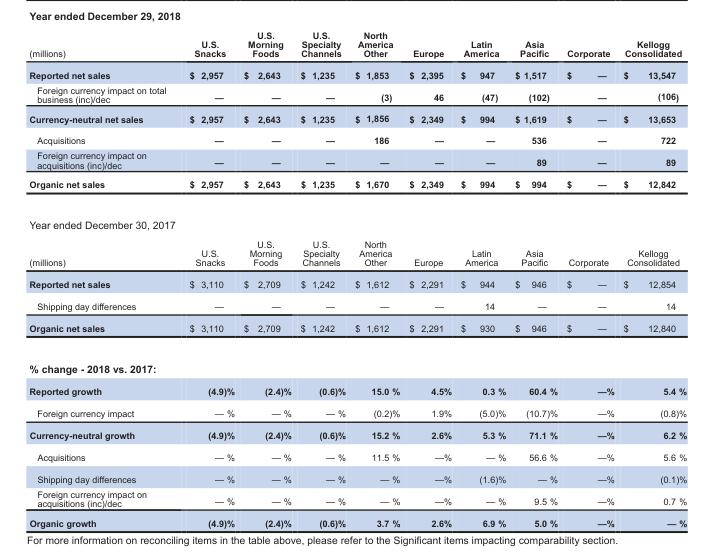table: (28, 29, 686, 527)
table column: (28, 29, 177, 527), (618, 29, 686, 527), (177, 29, 238, 527), (238, 29, 295, 527), (561, 29, 618, 527), (295, 29, 349, 527), (349, 29, 403, 527), (455, 29, 509, 527), (403, 29, 455, 527), (509, 29, 561, 527)
table column header: (28, 29, 686, 63)
table projected row header: (28, 347, 686, 379), (28, 204, 686, 234)
table row: (28, 234, 686, 272), (28, 29, 686, 63), (28, 347, 686, 379), (28, 316, 686, 347), (28, 174, 686, 204), (28, 204, 686, 234), (28, 81, 686, 108), (28, 147, 686, 174), (28, 486, 686, 512), (28, 272, 686, 294), (28, 294, 686, 316), (28, 379, 686, 401), (28, 401, 686, 423), (28, 423, 686, 445), (28, 445, 686, 467), (28, 108, 686, 129), (28, 467, 686, 486), (28, 63, 686, 81), (28, 129, 686, 147), (28, 512, 686, 527)
